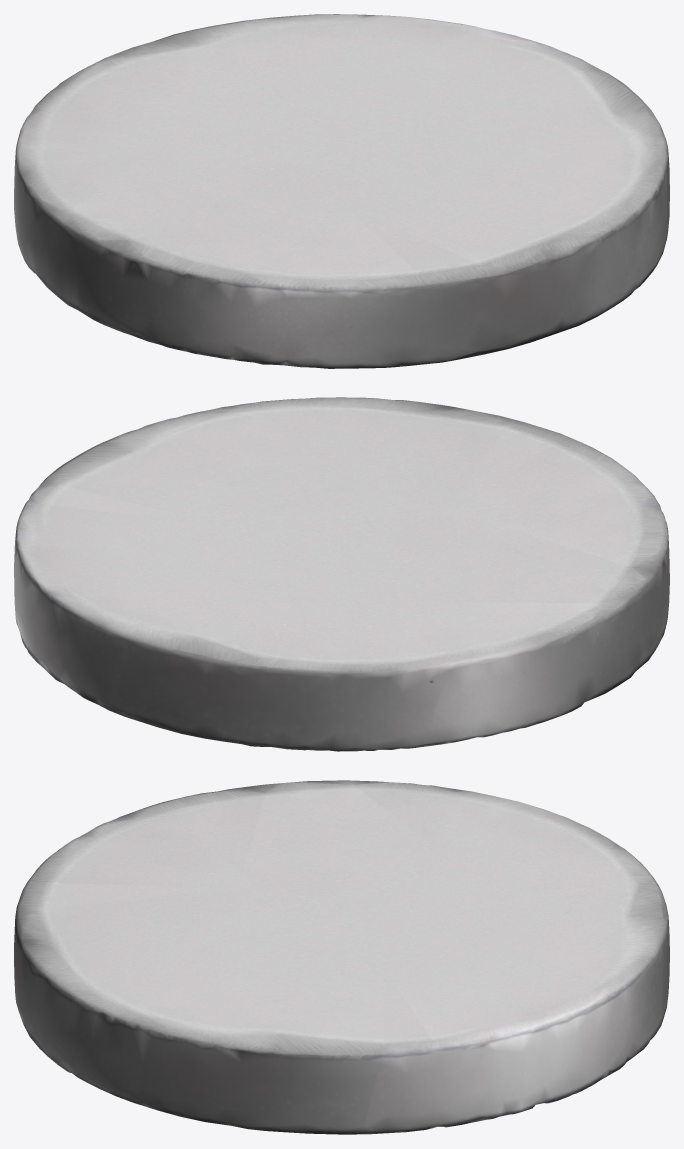
Rendered from 069c8f66-968c-7ba4-8000-9a6ca0abae84-model.glb.
3 renders of one model, top to bottom at view 1: azimuth 30°, elevation 25°; view 2: azimuth 150°, elevation 25°; view 3: azimuth 270°, elevation 25°, orthographic.
Visible parts, largest first — view 1: model; view 2: model; view 3: model.
Boxes of the visible parts, bbox=[...] form: model: bbox=[14, 14, 669, 368]; model: bbox=[14, 397, 669, 751]; model: bbox=[14, 780, 669, 1134].
Bounding box in the file's own units: 1.09 × 0.1515 × 1.09.
Materials: 1 (1 with a texture image).
